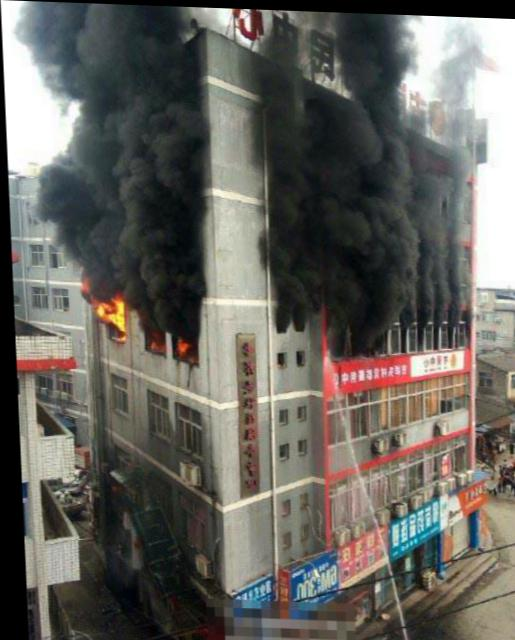fire: (98, 292, 122, 338)
